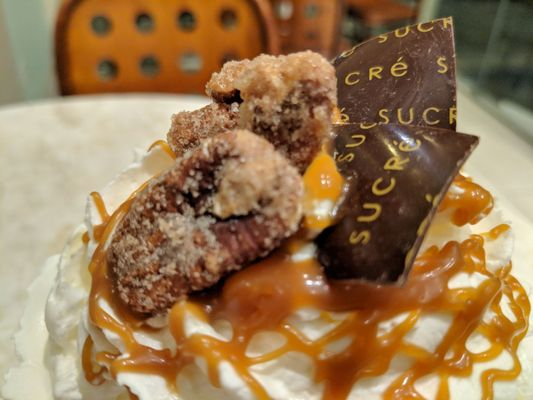salad: (310, 18, 480, 286), (102, 127, 307, 315)
